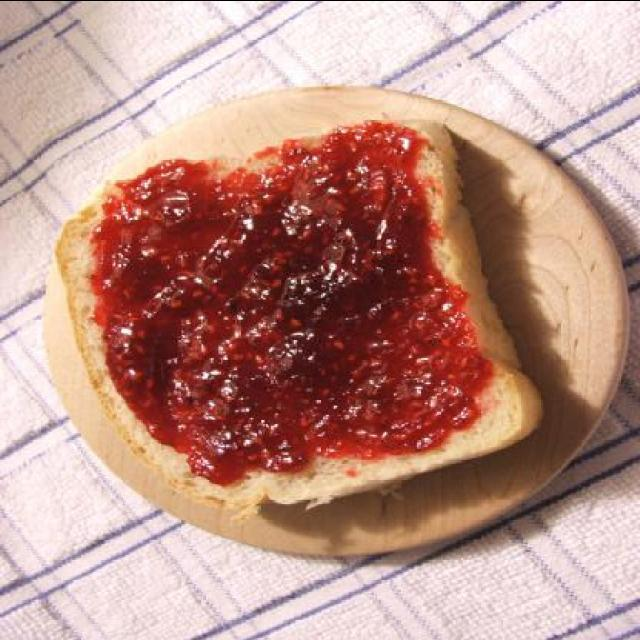Spread: (90, 120, 484, 488)
